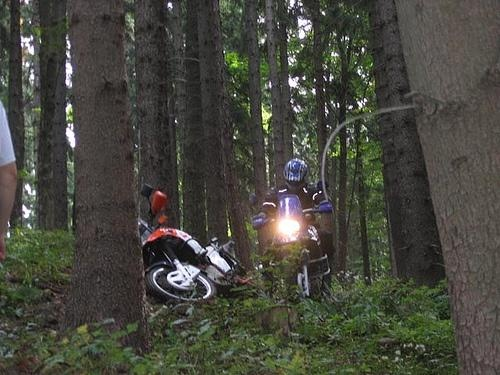motorbike: (119, 188, 261, 308), (246, 157, 343, 305)
